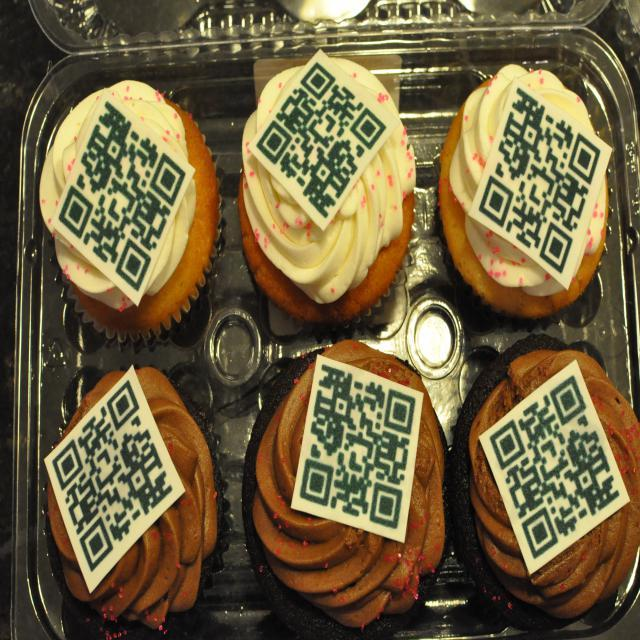qrcode: (59, 101, 187, 293), (490, 376, 621, 561), (53, 381, 174, 573), (479, 88, 602, 275), (257, 62, 388, 220), (300, 365, 417, 531)
